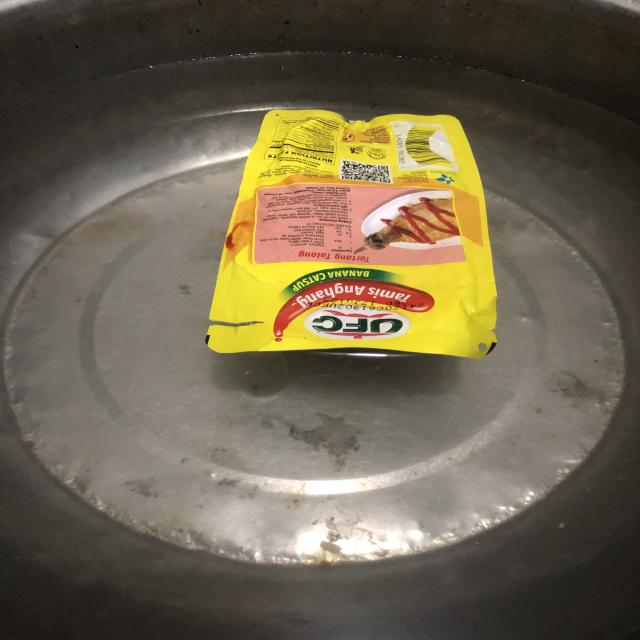Plastic Pouch: (206, 110, 497, 359)
